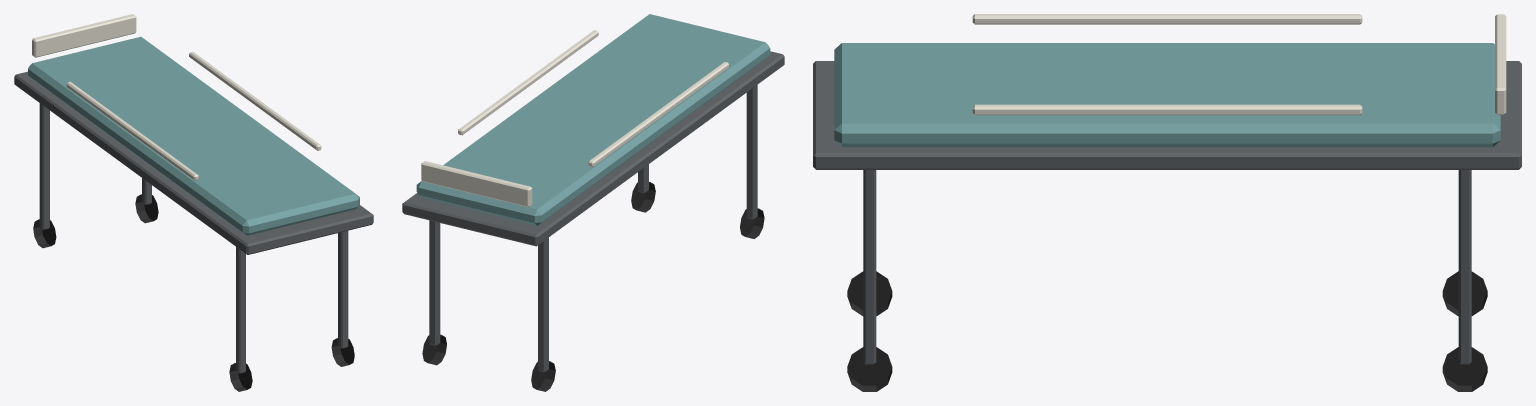
Rendered from gurney.glb.
3 renders of one model, left to right at view 1: azimuth 30°, elevation 25°; view 2: azimuth 150°, elevation 25°; view 3: azimuth 270°, elevation 25°, orthographic. The views are drawn at different scales.
Parts seen in each view (by area): view 1: gurney; view 2: gurney; view 3: gurney.
Boxes of the visible parts, box(x1,y1,x2,y2) form: gurney: box(14, 14, 373, 391); gurney: box(402, 14, 784, 391); gurney: box(813, 14, 1521, 391).
Bounding box in the file's own units: 0.601 × 0.8871 × 1.9.
